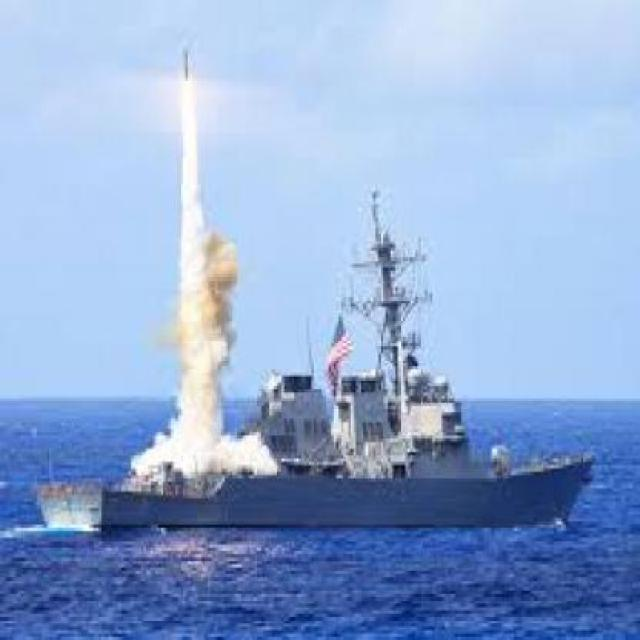warship2: (21, 212, 624, 569)
